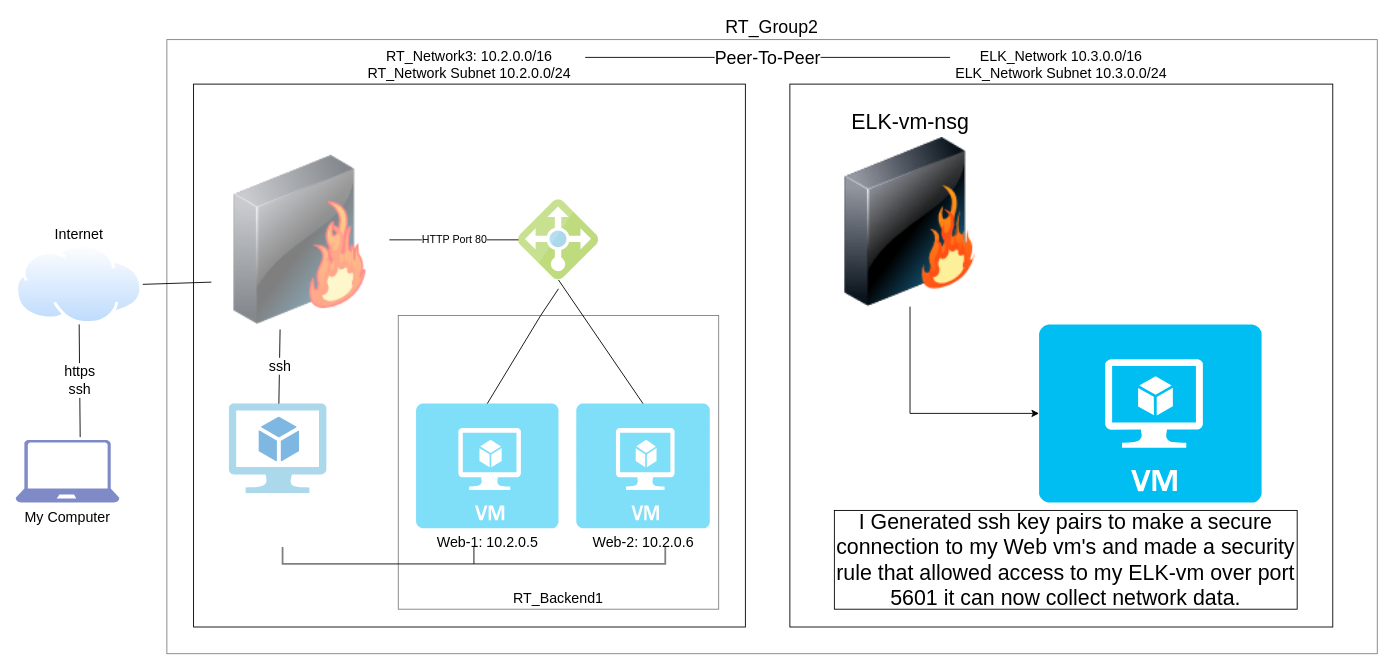
Some shapes in this 1393 by 669 pixel diagram are drawn without their labels. Each missing label, with the centre of its shape:
ELK-vm 20.195.194.10 10.3..0.4: [1150,413]
external_internal_deny_any_any (Network Security Group): [300,239]
Jump_Box_Provisioner docker/ansible 20.211.122.12 10.2.0.4: [278,448]
RT_LB 20.188.197.14: [558,239]
SSH DVWA Containers: [473,555]
